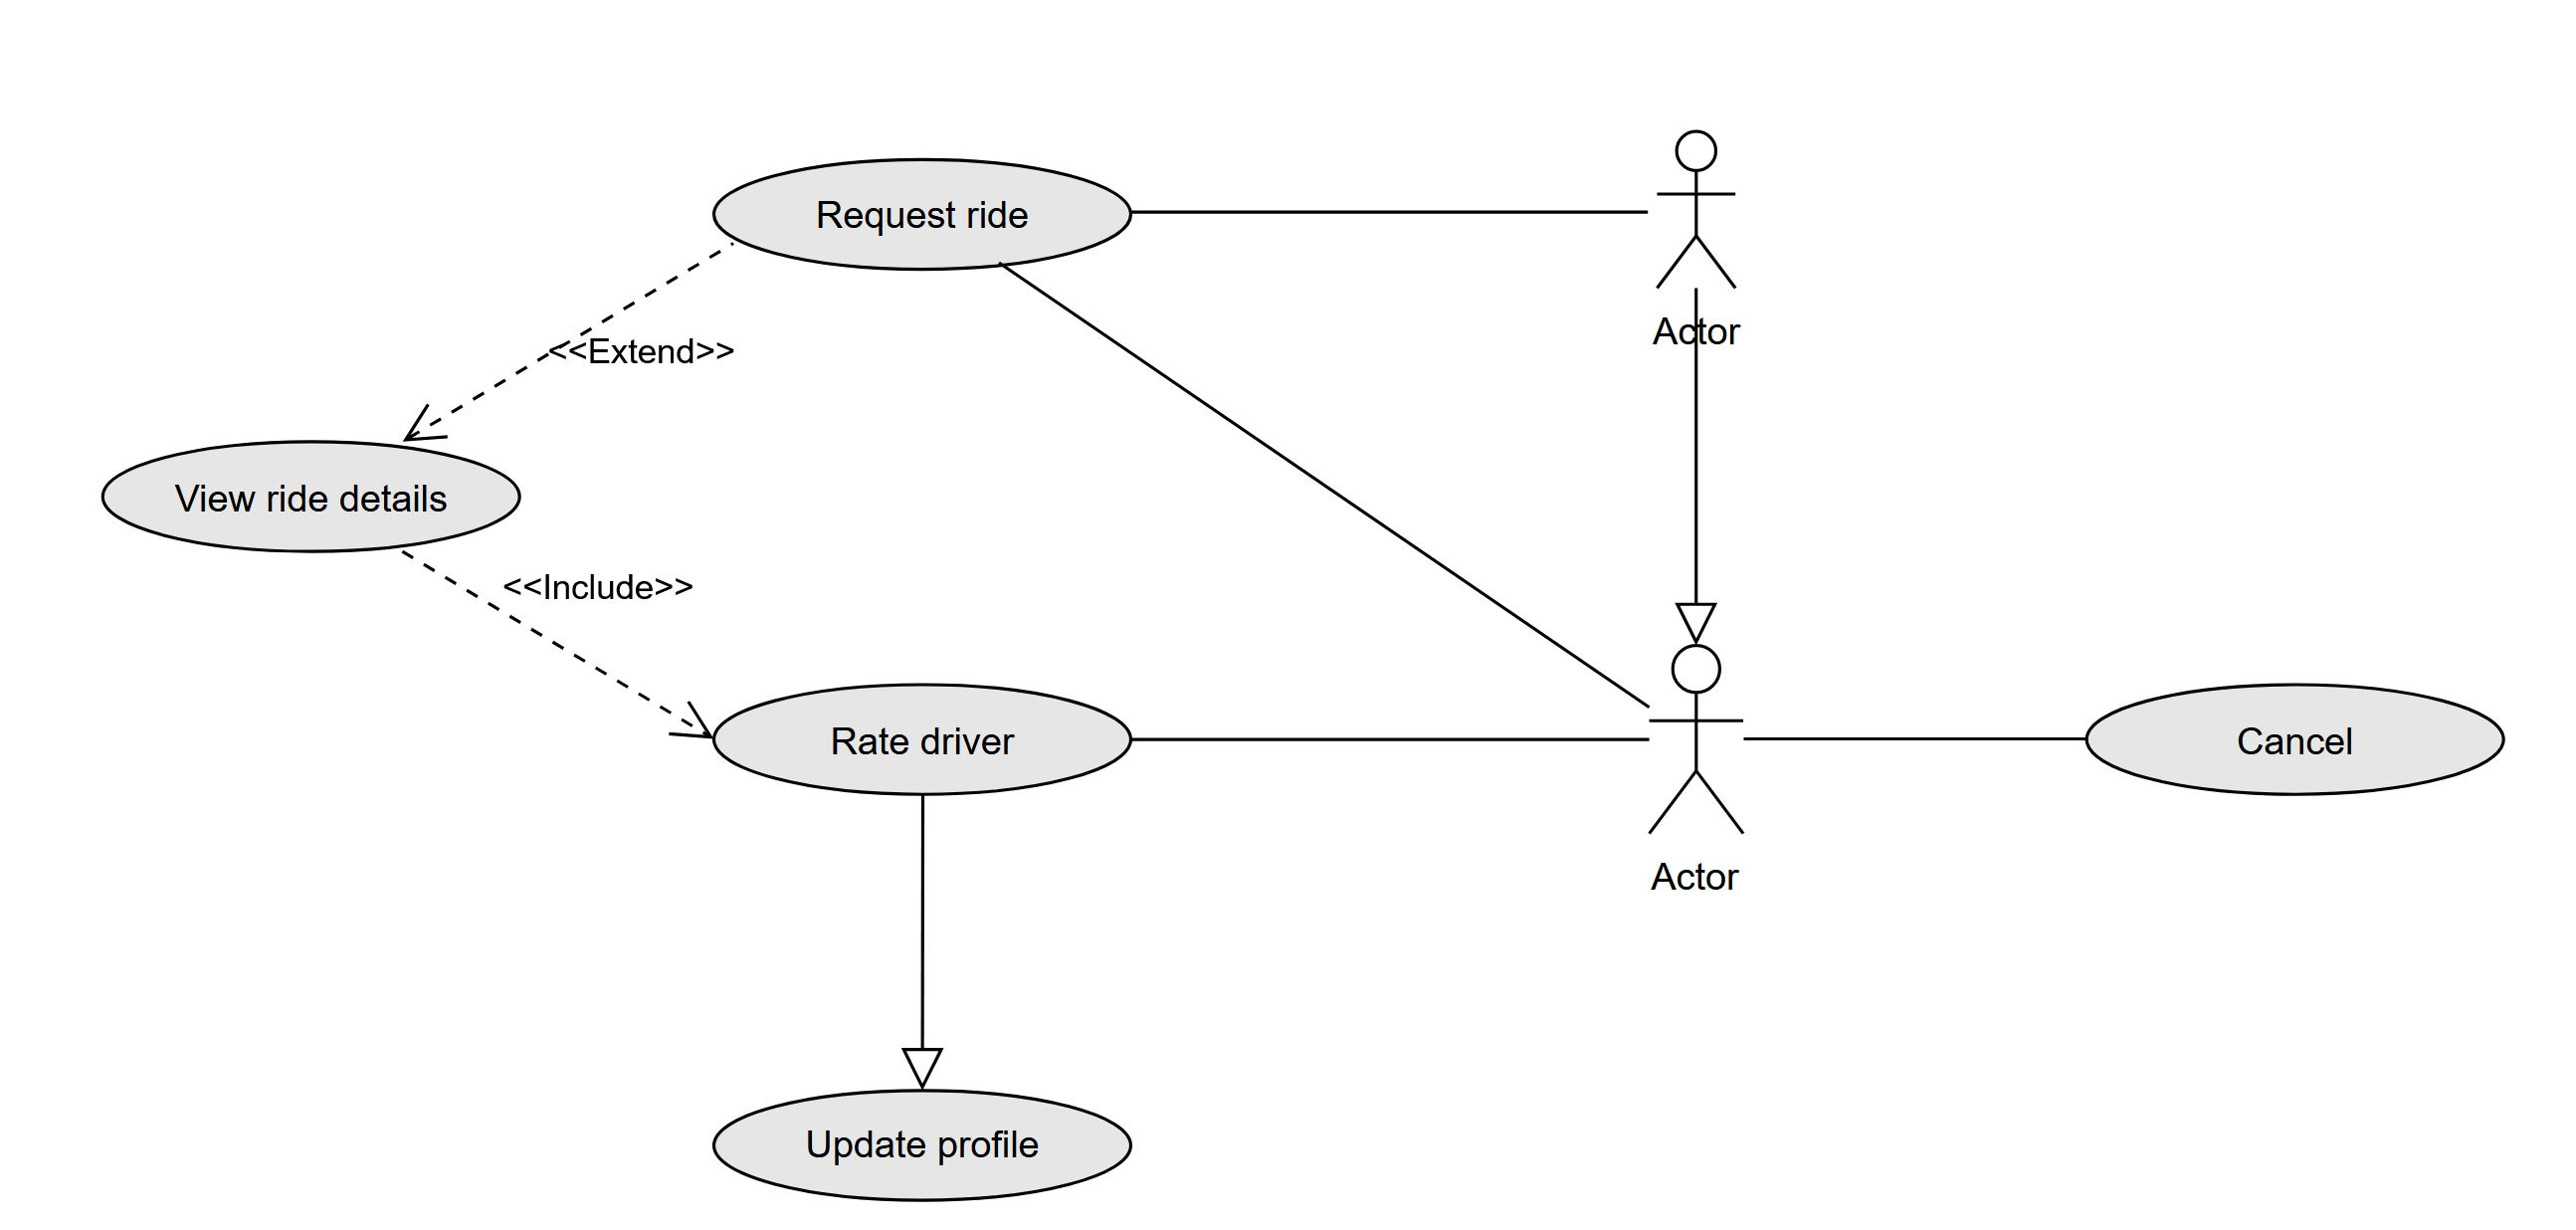actor: (1648, 642, 1745, 839), (1654, 125, 1745, 291)
association: (1010, 268, 1649, 708), (404, 235, 741, 445), (411, 550, 716, 739), (1134, 713, 1646, 764), (1134, 186, 1656, 228), (1741, 709, 2085, 760), (902, 796, 945, 1087)
text: (166, 468, 465, 526), (818, 706, 1035, 770), (491, 555, 705, 617), (810, 189, 1051, 241), (807, 1120, 1053, 1168), (540, 324, 746, 373), (2229, 714, 2367, 772), (1646, 847, 1756, 905), (1653, 309, 1753, 356)
use_case: (2083, 680, 2509, 800), (705, 680, 1129, 800), (705, 1085, 1134, 1204), (100, 438, 522, 557), (710, 156, 1134, 273)
